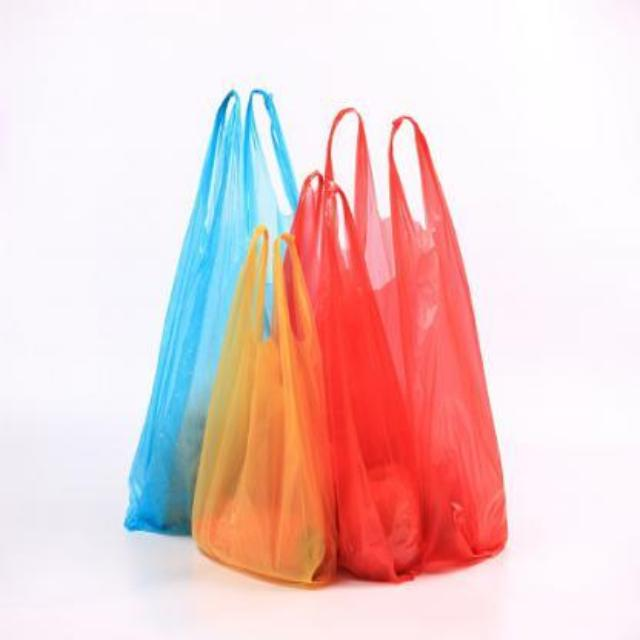sacola plástica: (332, 73, 516, 611), (119, 70, 294, 568), (281, 135, 424, 568), (182, 240, 332, 600)
